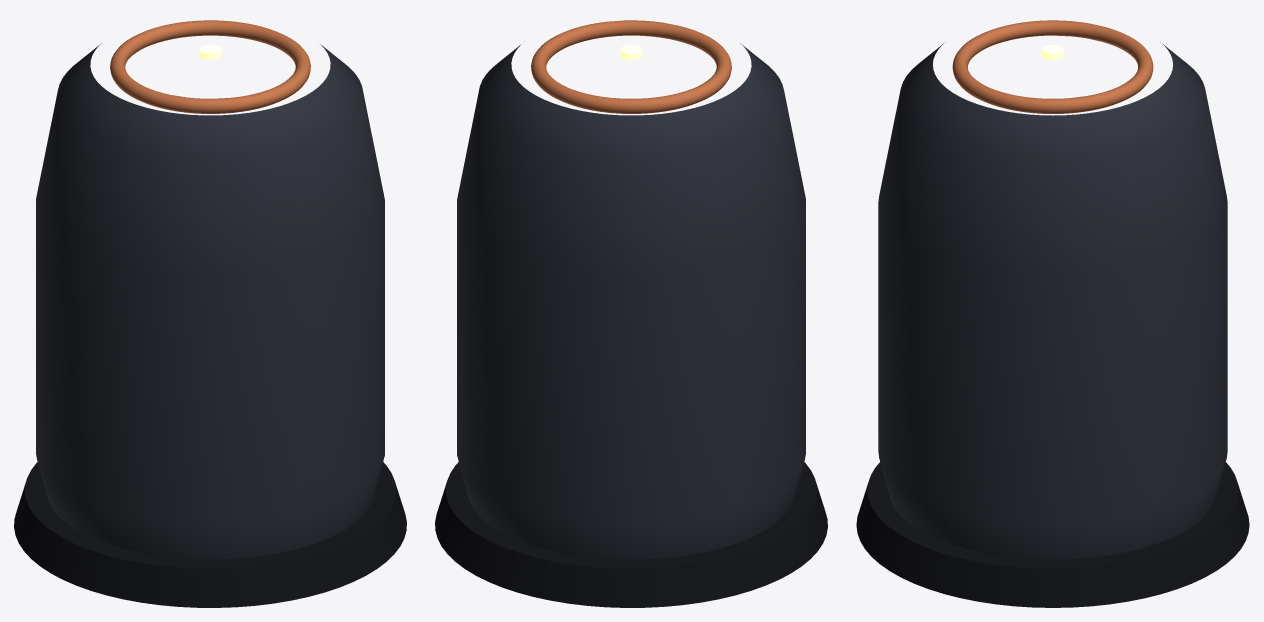
The model's file is orbit-one.glb.
The picture shows the model from 3 angles, left to right: view 1: azimuth 30°, elevation 25°; view 2: azimuth 150°, elevation 25°; view 3: azimuth 270°, elevation 25°; orthographic projection.
Visible parts, largest first — view 1: OrbitOne.Body; view 2: OrbitOne.Body; view 3: OrbitOne.Body.
Boxes of the visible parts, x1=… form: OrbitOne.Body: x1=14, y1=20, x2=406, y2=607; OrbitOne.Body: x1=435, y1=20, x2=827, y2=607; OrbitOne.Body: x1=856, y1=20, x2=1249, y2=607.
Bounding box in the file's own units: 0.7201 × 0.961 × 0.7201.
2 materials, 2 textured.
